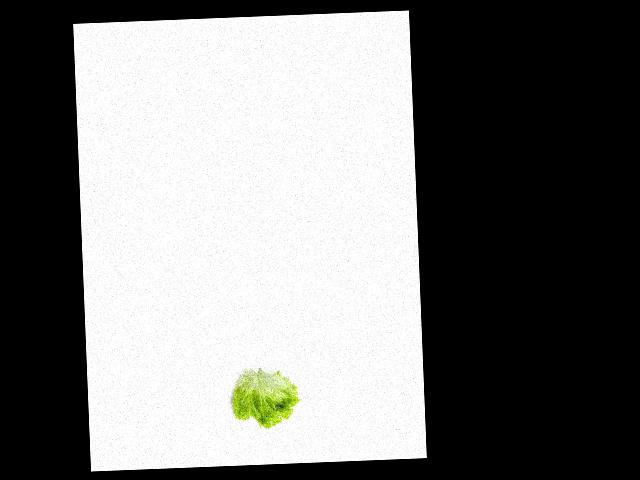lettuce: (224, 365, 302, 427)
